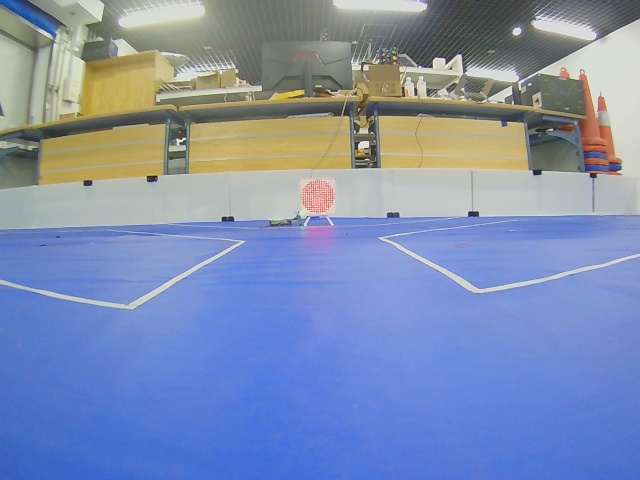red: (300, 179, 335, 215)
